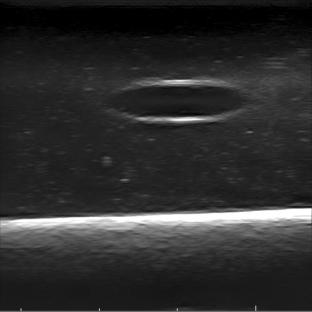vessel: (106, 79, 247, 125)
